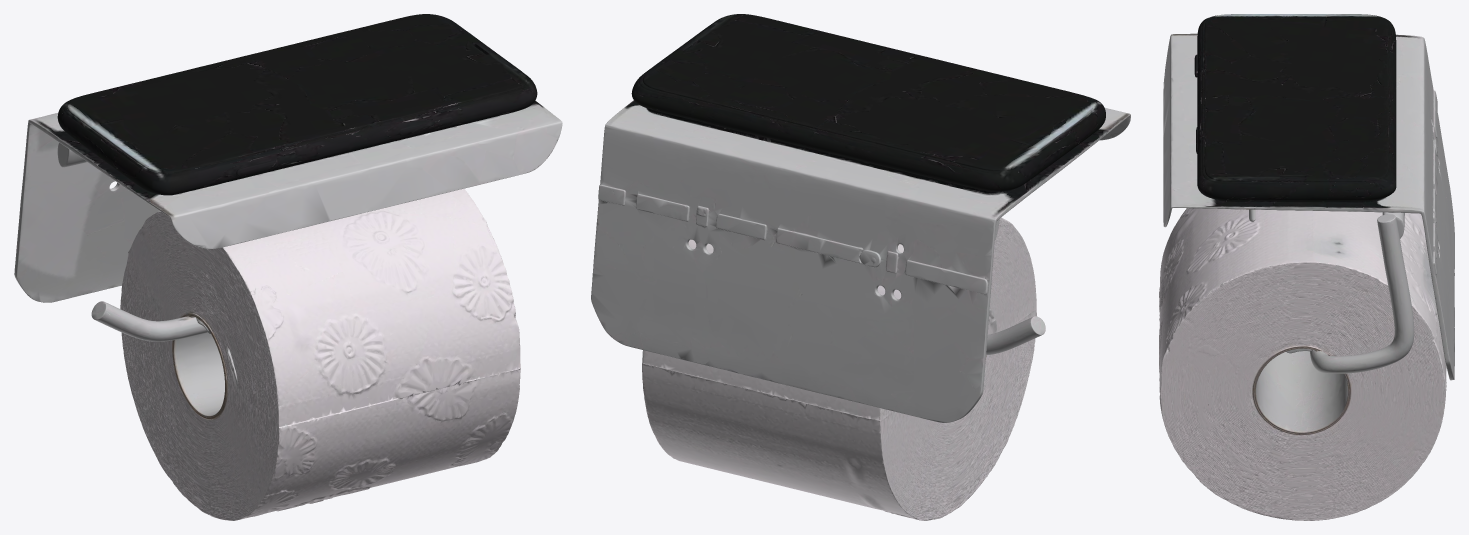
File: bath-paper-holder.glb
The picture shows the model from 3 angles, left to right: view 1: azimuth 30°, elevation 25°; view 2: azimuth 150°, elevation 25°; view 3: azimuth 270°, elevation 25°; orthographic projection. The views are drawn at different scales.
Bounding box in the file's own units: 1.9 × 1.83 × 1.36.
Materials: 1 (1 with a texture image).
